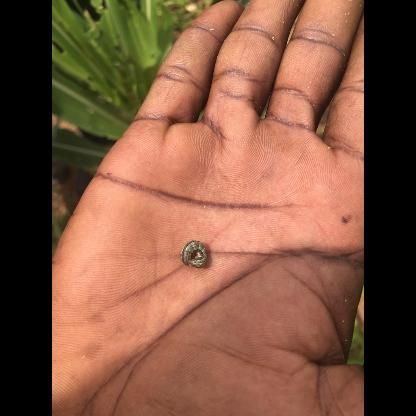Fall Armyworm Larvae: (179, 239, 209, 271)
